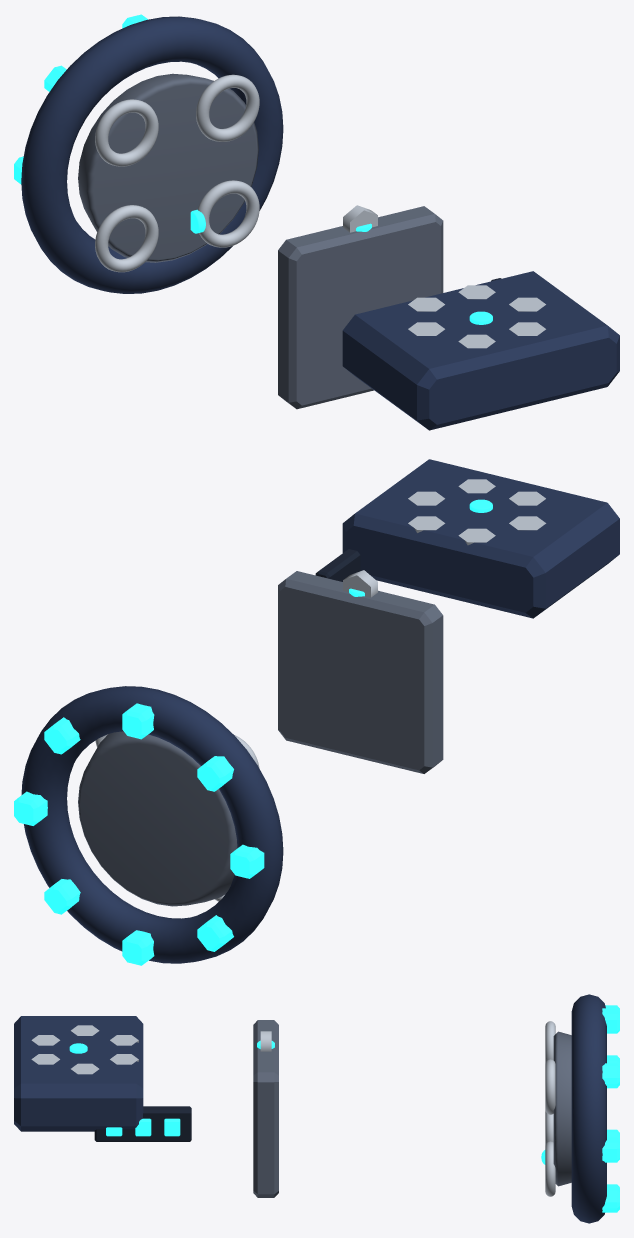
File: tower_skywatch_damage_s6.glb
The picture shows the model from 3 angles, top to bottom: view 1: azimuth 30°, elevation 25°; view 2: azimuth 150°, elevation 25°; view 3: azimuth 270°, elevation 25°; orthographic projection. The views are drawn at different scales.
Visible parts, largest first — view 1: skywatch_housing_armour, skywatch_fuse_ring, skywatch_barrel_clamp_b, skywatch_fuse_collar, skywatch_armour_bolts, skywatch_crown3, skywatch_crown1, skywatch_crown2, skywatch_crown0, skywatch_clamp_b_bolts; view 2: skywatch_barrel_clamp_b, skywatch_housing_armour, skywatch_fuse_ring, skywatch_fuse_collar, skywatch_armour_bolts, skywatch_fuse_node0, skywatch_fuse_node2, skywatch_fuse_node1, skywatch_fuse_node6, skywatch_fuse_node4, skywatch_fuse_node5, skywatch_ammo_indicator (+2 smaller); view 3: skywatch_housing_armour, skywatch_fuse_ring, skywatch_barrel_clamp_b, skywatch_fuse_collar, skywatch_ammo_indicator, skywatch_armour_bolts, skywatch_crown1, skywatch_crown0, skywatch_fuse_node3, skywatch_fuse_node4, skywatch_fuse_node2, skywatch_fuse_node5 (+1 smaller).
Part boxes in pixels (x1,y1,x2,y2): skywatch_housing_armour: (342,271,619,430); skywatch_fuse_ring: (21,16,283,293); skywatch_barrel_clamp_b: (278,206,443,409); skywatch_fuse_collar: (78,73,258,262); skywatch_armour_bolts: (408,285,545,348); skywatch_crown3: (95,99,158,166); skywatch_crown1: (196,74,259,141); skywatch_crown2: (95,205,158,272); skywatch_crown0: (197,180,259,247); skywatch_clamp_b_bolts: (343,205,377,232); skywatch_barrel_clamp_b: (278,571,443,773); skywatch_housing_armour: (342,459,619,618); skywatch_fuse_ring: (21,686,283,963); skywatch_fuse_collar: (78,731,237,906); skywatch_armour_bolts: (408,479,546,545); skywatch_fuse_node0: (230,844,264,878); skywatch_fuse_node2: (122,703,154,739); skywatch_fuse_node1: (197,756,233,791); skywatch_fuse_node6: (122,930,154,965); skywatch_fuse_node4: (14,791,47,825); skywatch_fuse_node5: (44,879,80,914); skywatch_ammo_indicator: (315,549,360,581); skywatch_housing_armour: (14,1016,143,1131); skywatch_fuse_ring: (571,994,606,1223); skywatch_barrel_clamp_b: (253,1020,278,1197); skywatch_fuse_collar: (553,1031,571,1186); skywatch_ammo_indicator: (94,1106,191,1141); skywatch_armour_bolts: (31,1025,138,1074); skywatch_crown1: (545,1059,555,1114); skywatch_crown0: (545,1141,555,1196); skywatch_fuse_node3: (602,1063,619,1088); skywatch_fuse_node4: (602,1137,619,1162); skywatch_fuse_node2: (602,1008,619,1033); skywatch_fuse_node5: (602,1187,619,1212).
Size of the model in its own units: 0.71 by 0.71 by 1.88.
